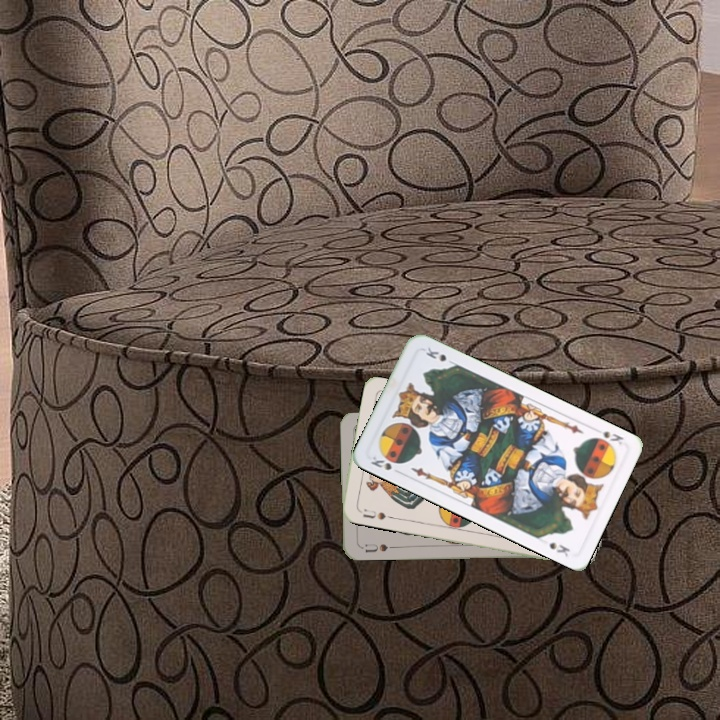SK: (589, 425, 626, 447), (367, 451, 394, 473)
SU: (356, 540, 397, 555), (359, 504, 388, 523)
